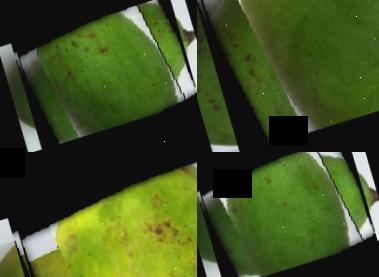PartiallyRipe: (10, 152, 197, 277)
Unripe: (12, 0, 197, 150), (197, 0, 379, 152), (197, 152, 376, 277)
